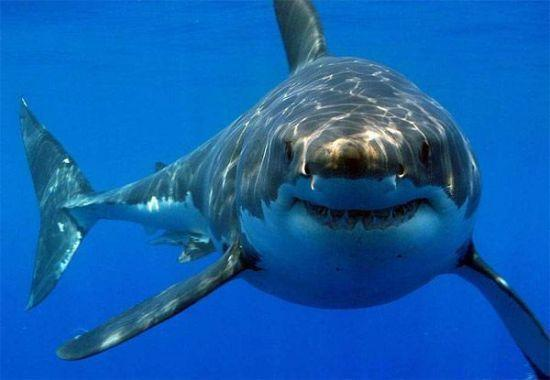fish: (14, 1, 550, 364)
